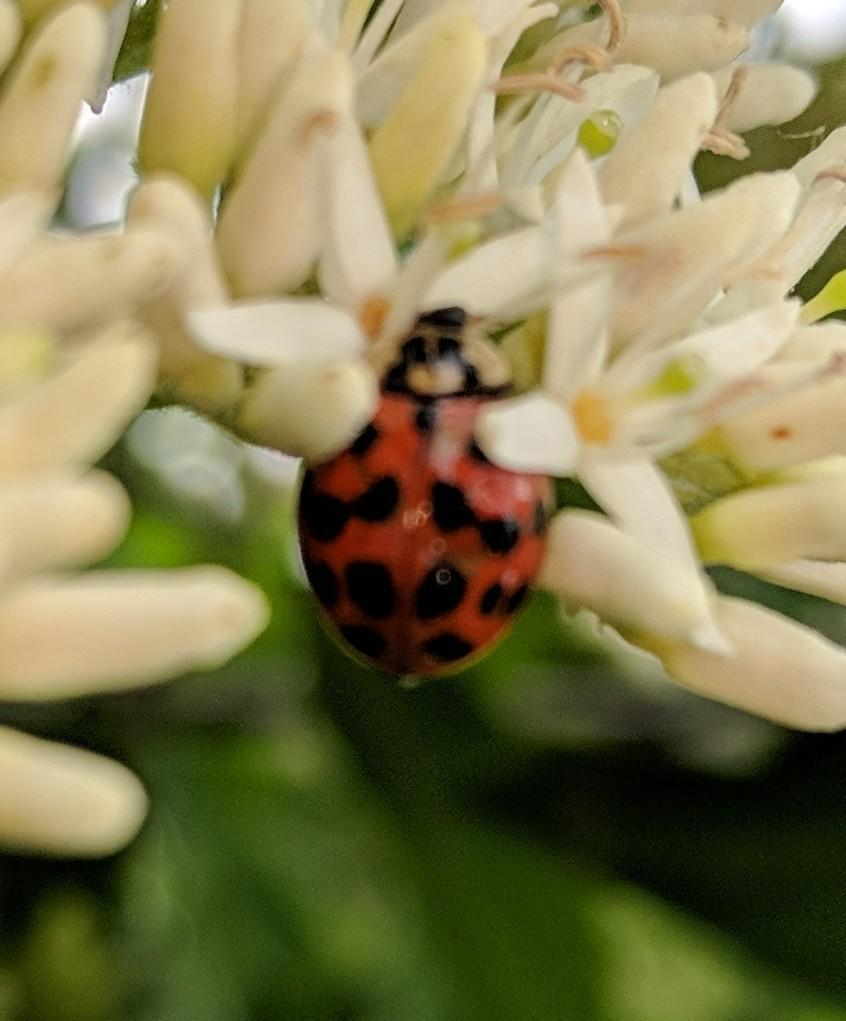ladybug: (294, 301, 561, 694)
